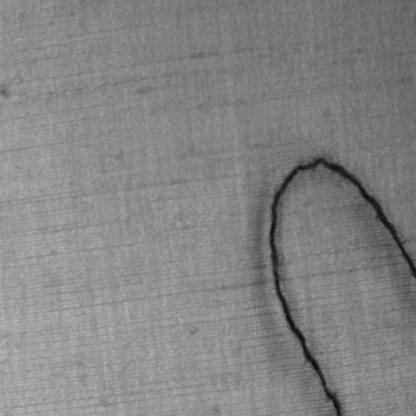objects: (264, 152, 415, 416)
